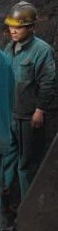boots: (0, 218, 12, 230), (0, 225, 18, 231)
gloves: (0, 89, 16, 107), (0, 138, 12, 154)
hard-hat: (0, 34, 20, 64)
ppe-suit: (0, 53, 29, 213)
